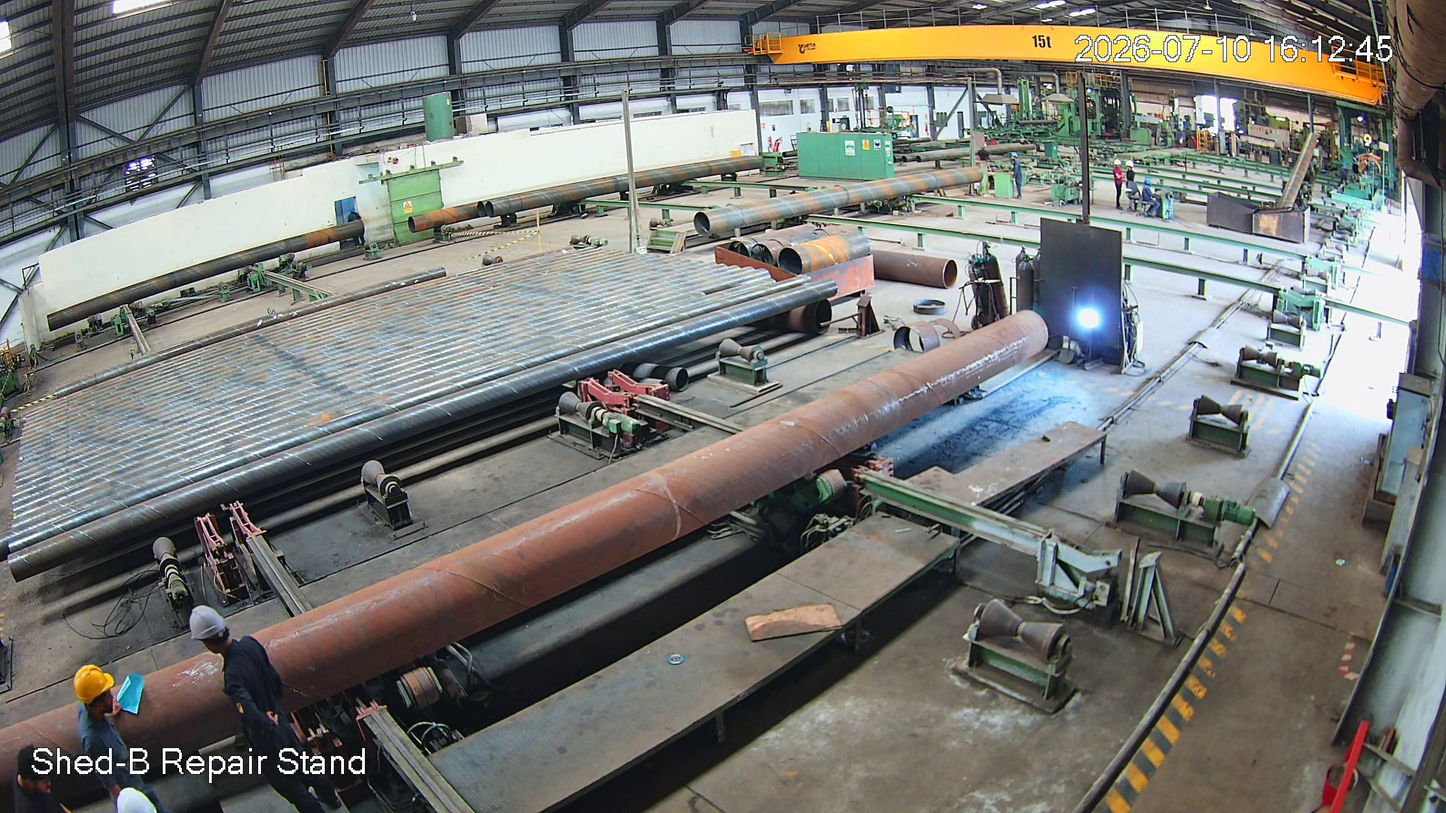Helmet: (179, 600, 250, 674), (69, 662, 126, 729), (1125, 158, 1136, 172), (1112, 159, 1123, 171), (1143, 177, 1154, 189)
Person: (185, 596, 324, 813), (58, 667, 155, 813), (1142, 178, 1161, 218), (1111, 159, 1124, 210), (1125, 160, 1137, 185)
